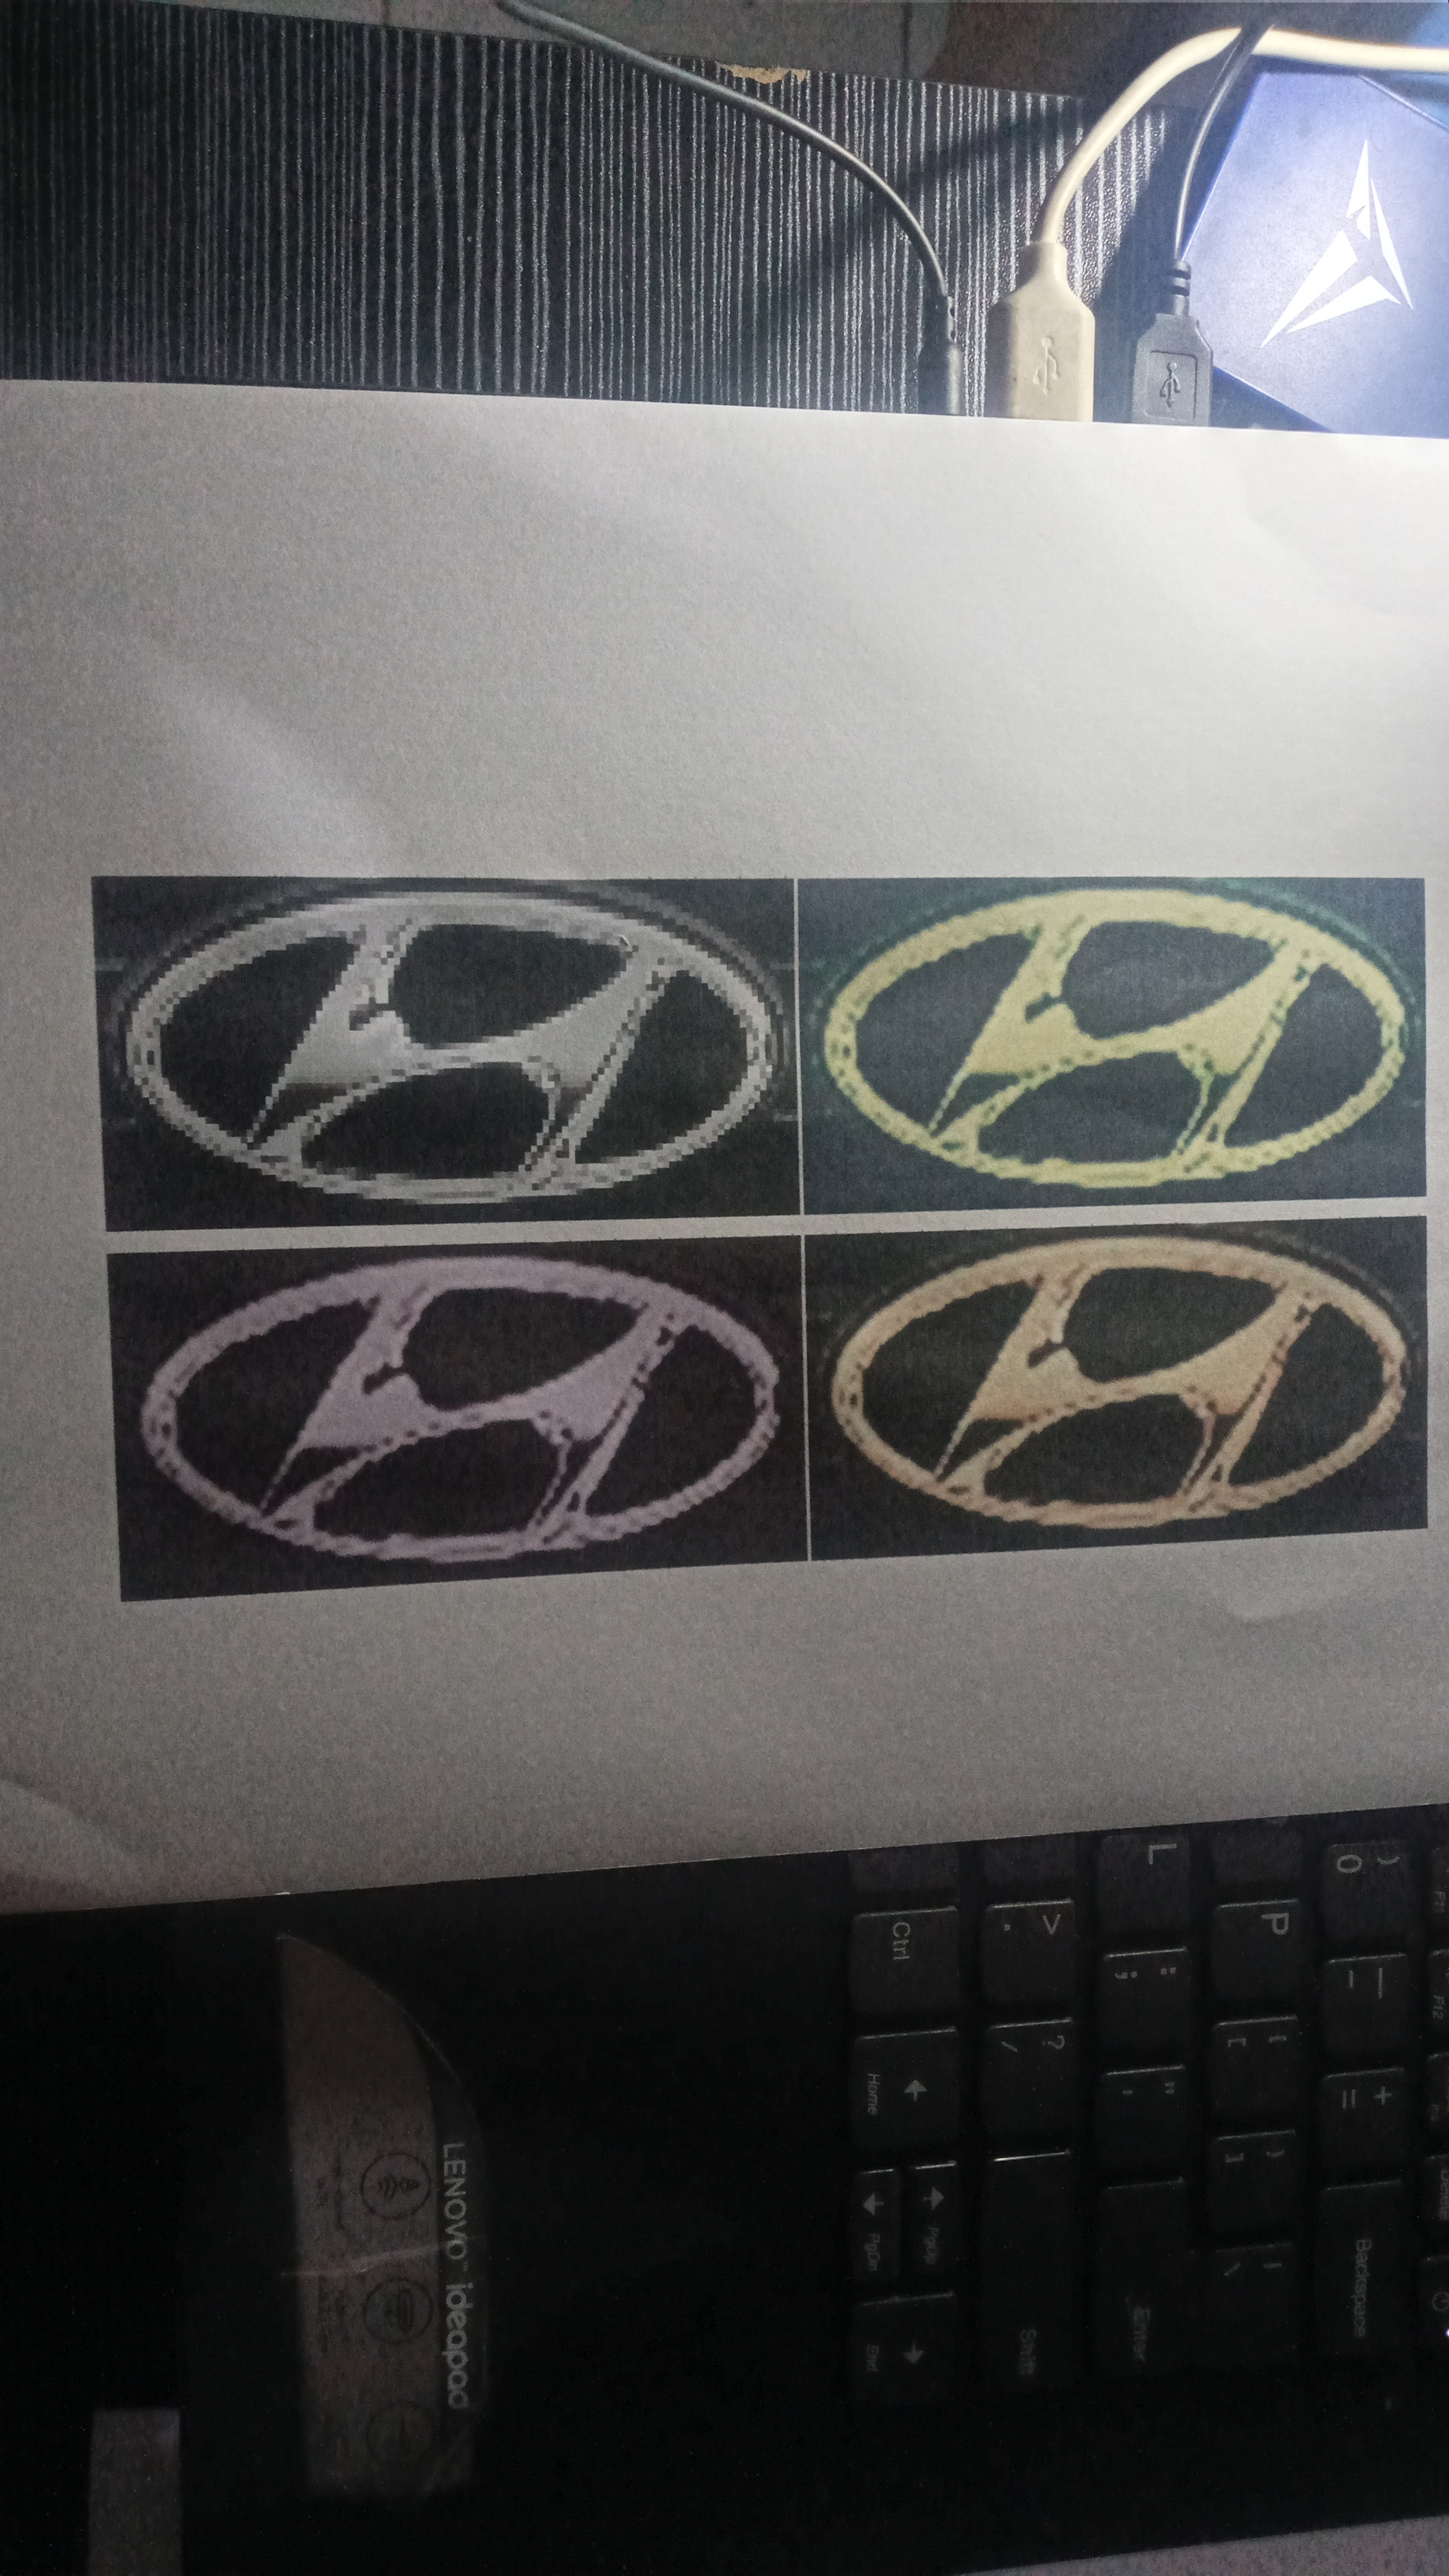Hyundai: (104, 869, 791, 1223), (113, 1256, 791, 1571), (809, 885, 1424, 1203), (817, 1219, 1415, 1536)
